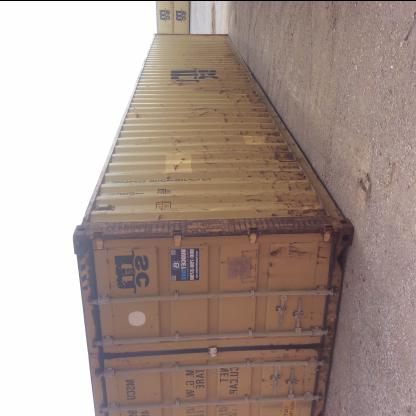Damage: (222, 111, 308, 217), (92, 218, 350, 238), (268, 240, 331, 271), (220, 77, 264, 109), (192, 128, 216, 174), (214, 31, 240, 73), (167, 132, 190, 178), (256, 344, 304, 362), (180, 98, 220, 119), (102, 242, 116, 296), (301, 306, 323, 328), (217, 247, 231, 276), (166, 74, 188, 89), (302, 368, 314, 392), (193, 83, 219, 94), (256, 369, 272, 385), (180, 52, 191, 70), (194, 42, 201, 70), (132, 106, 140, 124), (156, 210, 166, 221), (160, 100, 166, 112), (148, 132, 154, 144), (134, 140, 140, 150)
